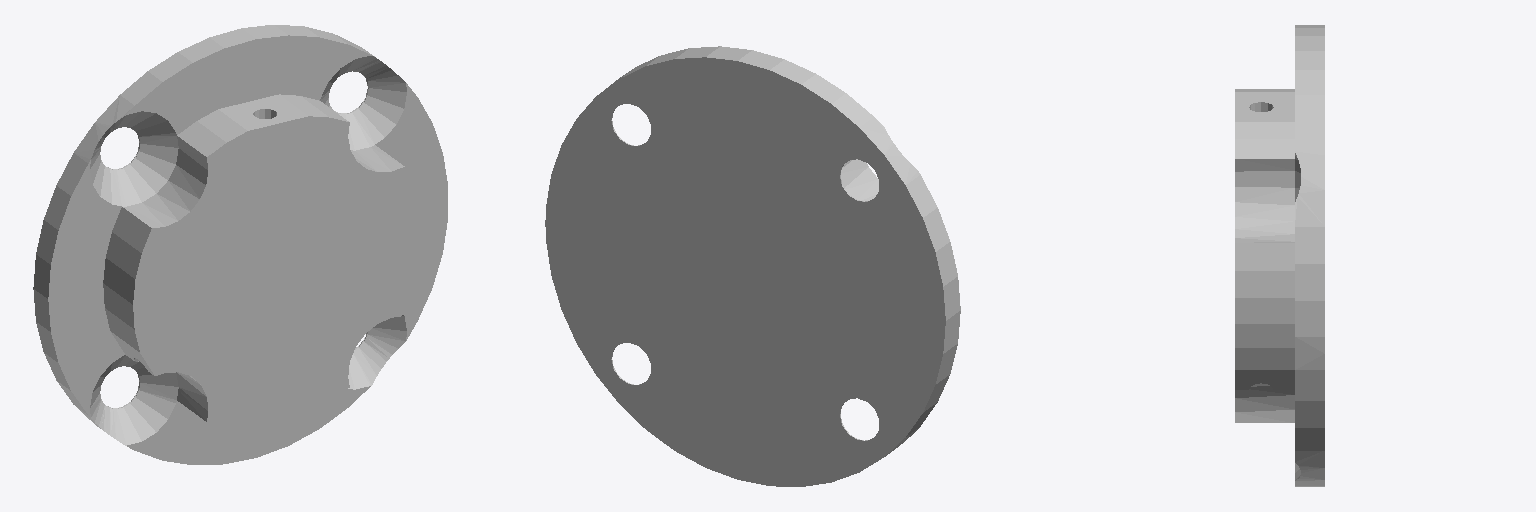
Rendered from rl_dg_mount_c_mesh.obj.
3 renders of one model, left to right at view 1: azimuth 30°, elevation 25°; view 2: azimuth 150°, elevation 25°; view 3: azimuth 270°, elevation 25°, orthographic.
Size of the model in its own units: 0.062 by 0.0619 by 0.012.